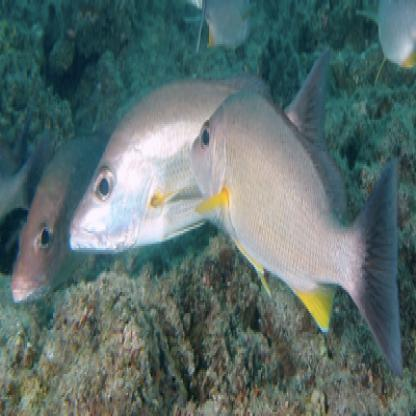snapper: (186, 96, 403, 379), (68, 52, 345, 264)
